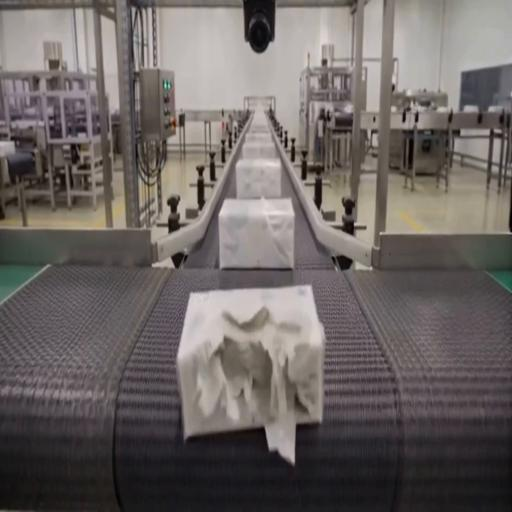defective: (177, 284, 325, 449)
good: (217, 197, 295, 271), (235, 158, 282, 199), (242, 126, 275, 152), (246, 108, 273, 130), (252, 102, 268, 118)
